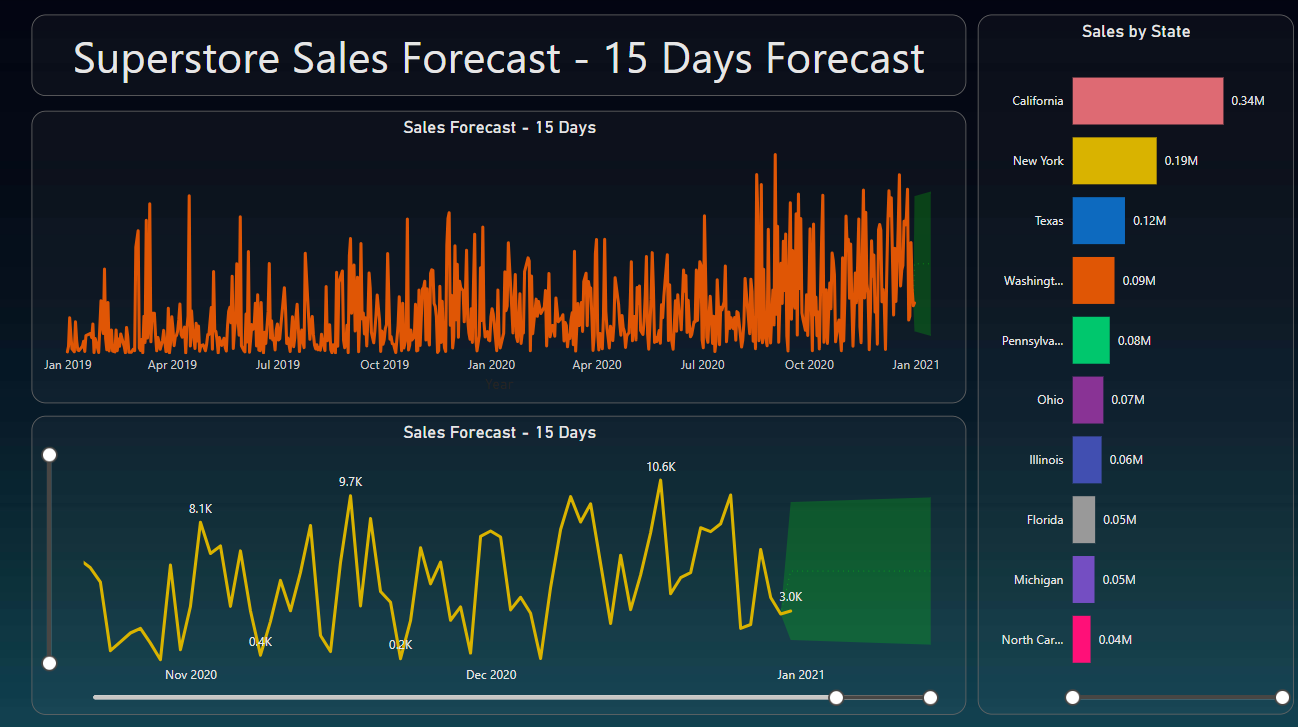

This screenshot's page, from the dashboard's own definition file:
{"tool":"powerbi","page":{"name":"Forecast","canvas":[1280,720],"ordinal":1},"visuals":[{"type":"lineChart","title":"Sales Forecast - 15 Days","fields":{"Y":["Sum(SuperStore_sales.Sales)"],"Category":["SuperStore_sales.Order Date.Variation.Date Hierarchy.Year","SuperStore_sales.Order Date.Variation.Date Hierarchy.Quarter","SuperStore_sales.Order Date.Variation.Date Hierarchy.Month","SuperStore_sales.Order Date.Variation.Date Hierarchy.Day"]},"box":[32.5,111.2,917.5,287.5],"z":0},{"type":"lineChart","title":"Sales Forecast - 15 Days","fields":{"Y":["Sum(SuperStore_sales.Sales)"],"Category":["SuperStore_sales.Order Date.Variation.Date Hierarchy.Year","SuperStore_sales.Order Date.Variation.Date Hierarchy.Quarter","SuperStore_sales.Order Date.Variation.Date Hierarchy.Month","SuperStore_sales.Order Date.Variation.Date Hierarchy.Day"]},"box":[32.5,411.2,917.5,293.8],"z":1000},{"type":"clusteredBarChart","title":"Sales by State","fields":{"Y":["Sum(SuperStore_sales.Sales)"],"Category":["SuperStore_sales.State"]},"box":[961.2,17.5,310,687.5],"z":2000},{"type":"textbox","box":[32.5,17.5,917.5,80],"z":3000}]}

Visuals, with their boxes in screenshot pixels (x1, y1, x2, y2), scaled from the page's 1280x720 canvas onto the 1298x727 screenshot:
"Sales Forecast - 15 Days" lineChart: <region>33, 112, 963, 403</region>
"Sales Forecast - 15 Days" lineChart: <region>33, 415, 963, 712</region>
"Sales by State" clusteredBarChart: <region>975, 18, 1289, 712</region>
textbox: <region>33, 18, 963, 98</region>
